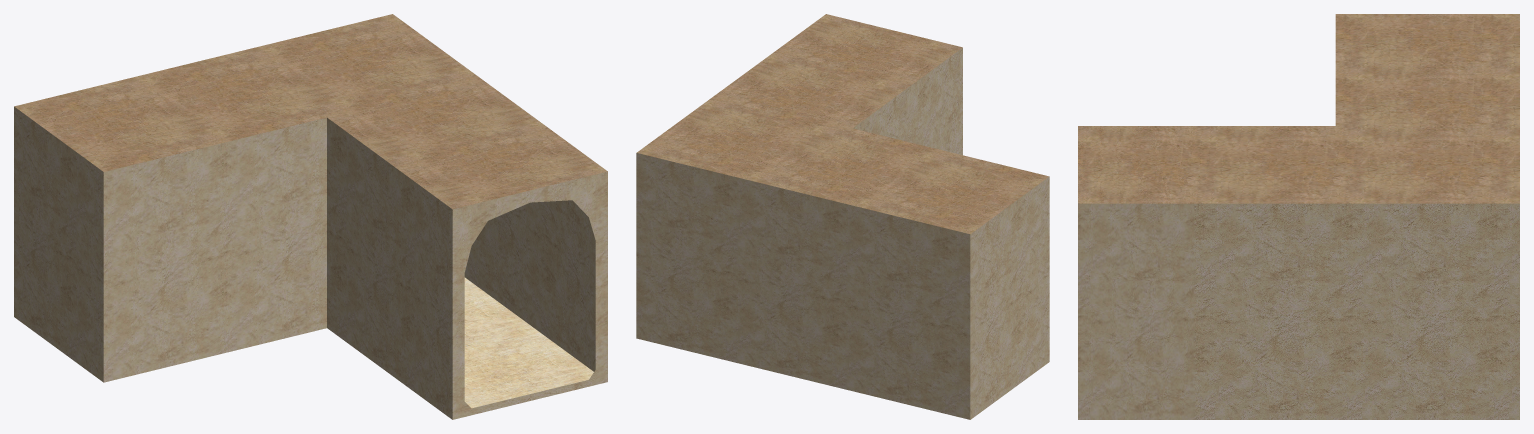
File: thm_tato_block_bldg_64x16_s02_r1_spawna_mesh_spawna.fbx
3 views of the same model, side by side, from view 1: azimuth 30°, elevation 25°; view 2: azimuth 150°, elevation 25°; view 3: azimuth 270°, elevation 25° (orthographic). The views are drawn at different scales.
Parts seen in each view (by area): view 1: mesh_node; view 2: mesh_node; view 3: mesh_node.
Boxes of the visible parts, box(x1,y1,x2,y2) form: mesh_node: box(14, 14, 607, 419); mesh_node: box(636, 14, 1049, 419); mesh_node: box(1078, 14, 1519, 419).
Size of the model in its own units: 6.11 by 3.25 by 6.01.
